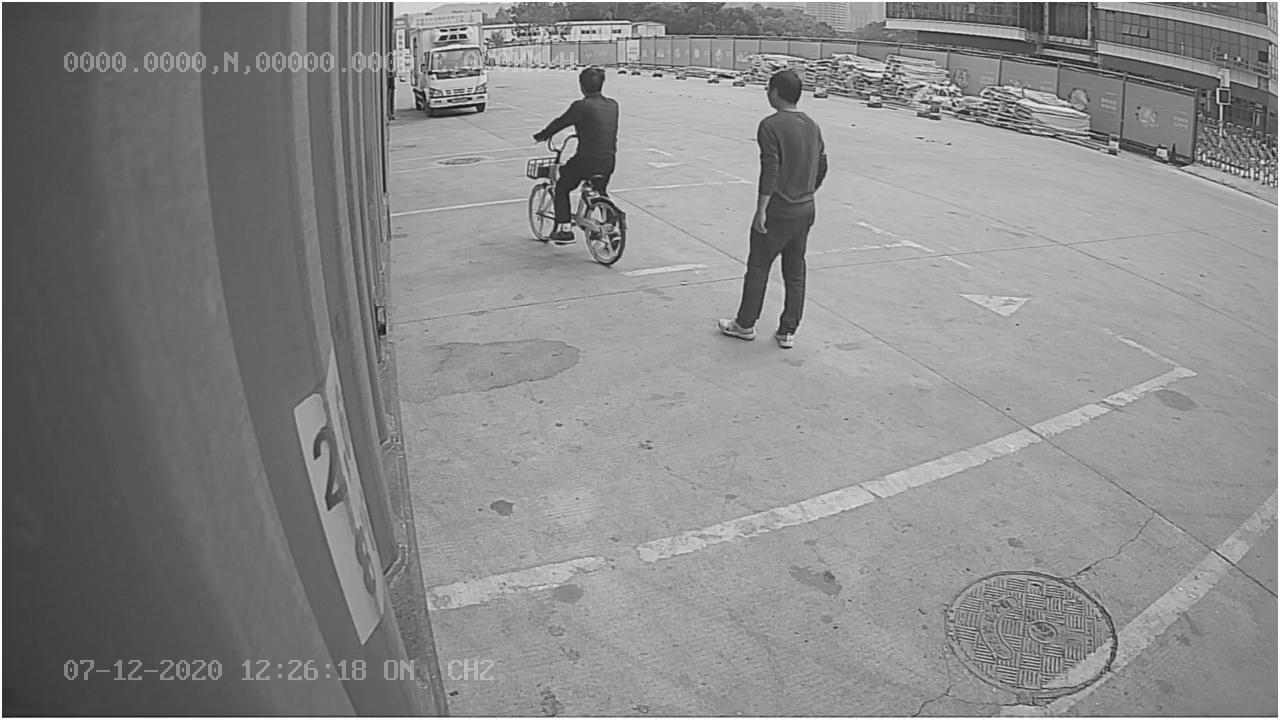person: (709, 64, 833, 352)
